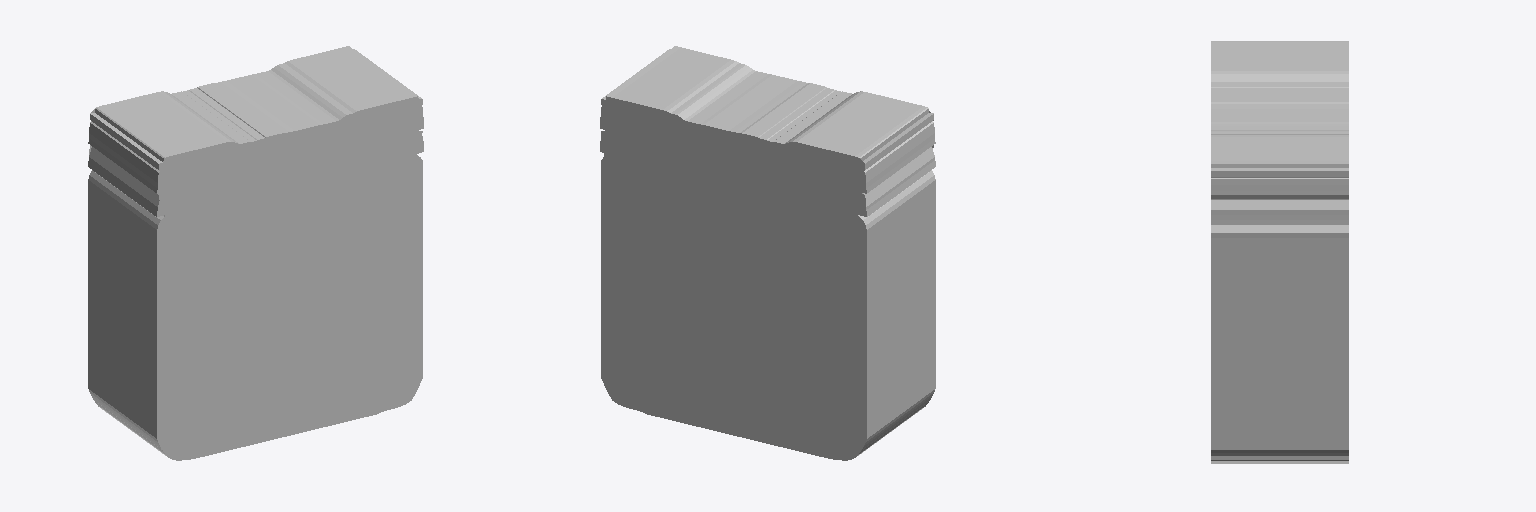
File: BlendedBayModule.obj
3 renders of one model, left to right at view 1: azimuth 30°, elevation 25°; view 2: azimuth 150°, elevation 25°; view 3: azimuth 270°, elevation 25°, orthographic.
Parts seen in each view (by area): view 1: Cube; view 2: Cube; view 3: Cube.
Boxes of the visible parts, x1=… form: Cube: x1=88, y1=46, x2=423, y2=460; Cube: x1=600, y1=46, x2=935, y2=460; Cube: x1=1211, y1=41, x2=1348, y2=463.
Size of the model in its own units: 4.52 by 4.99 by 2.02.